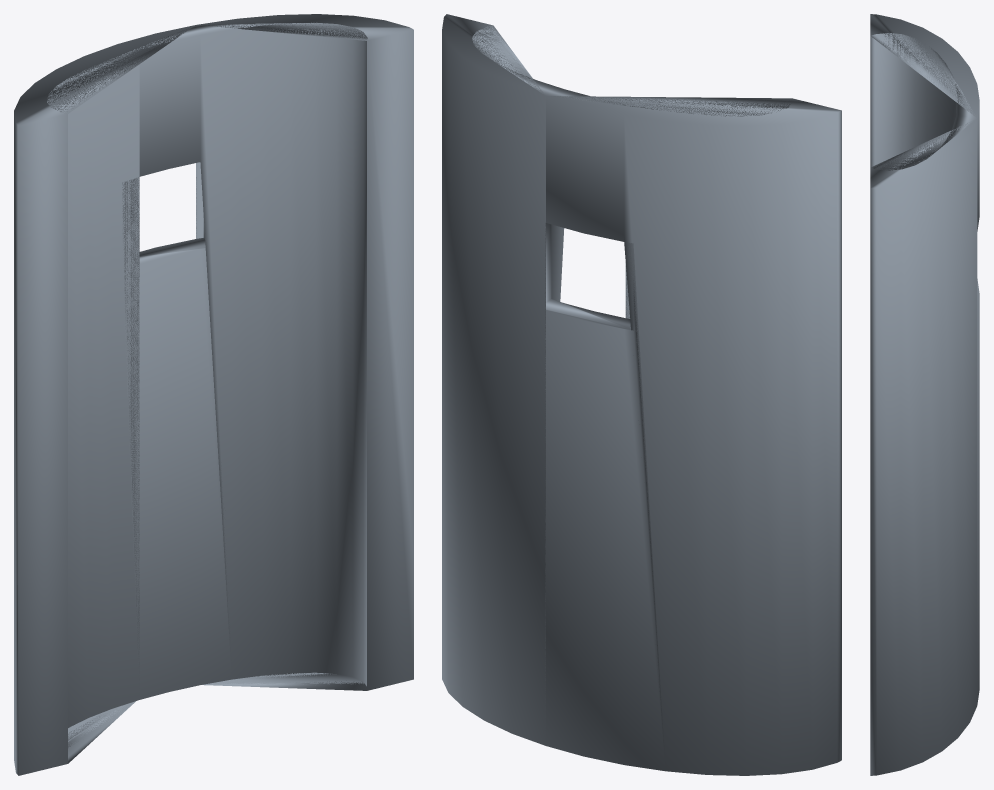
The model's file is shield.glb.
The picture shows the model from 3 angles, left to right: view 1: azimuth 30°, elevation 25°; view 2: azimuth 150°, elevation 25°; view 3: azimuth 270°, elevation 25°; orthographic projection. The views are drawn at different scales.
Visible parts, largest first — view 1: Shield; view 2: Shield; view 3: Shield.
Boxes of the visible parts, <box> form: Shield: <box>14,14,413,775</box>; Shield: <box>442,14,841,775</box>; Shield: <box>870,14,979,775</box>.
Bounding box in the file's own units: 2.74 × 4.31 × 0.7272.
